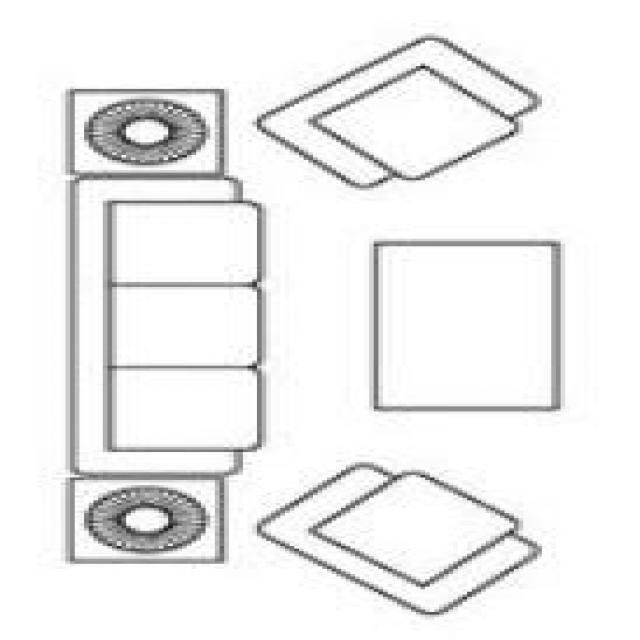sofa: (56, 31, 570, 620)
